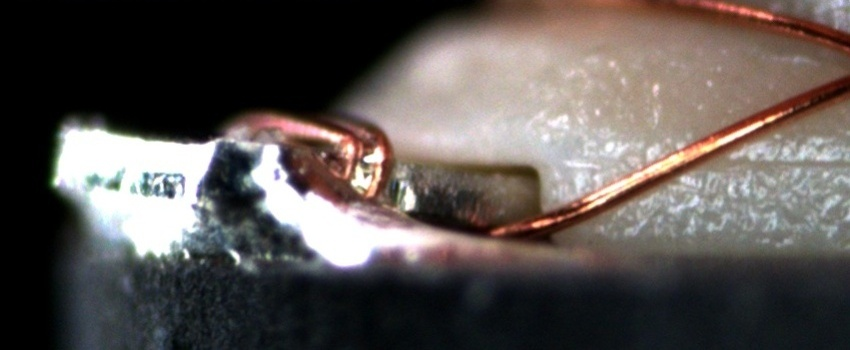DL: (561, 131, 849, 195)
TE: (224, 100, 394, 210)
